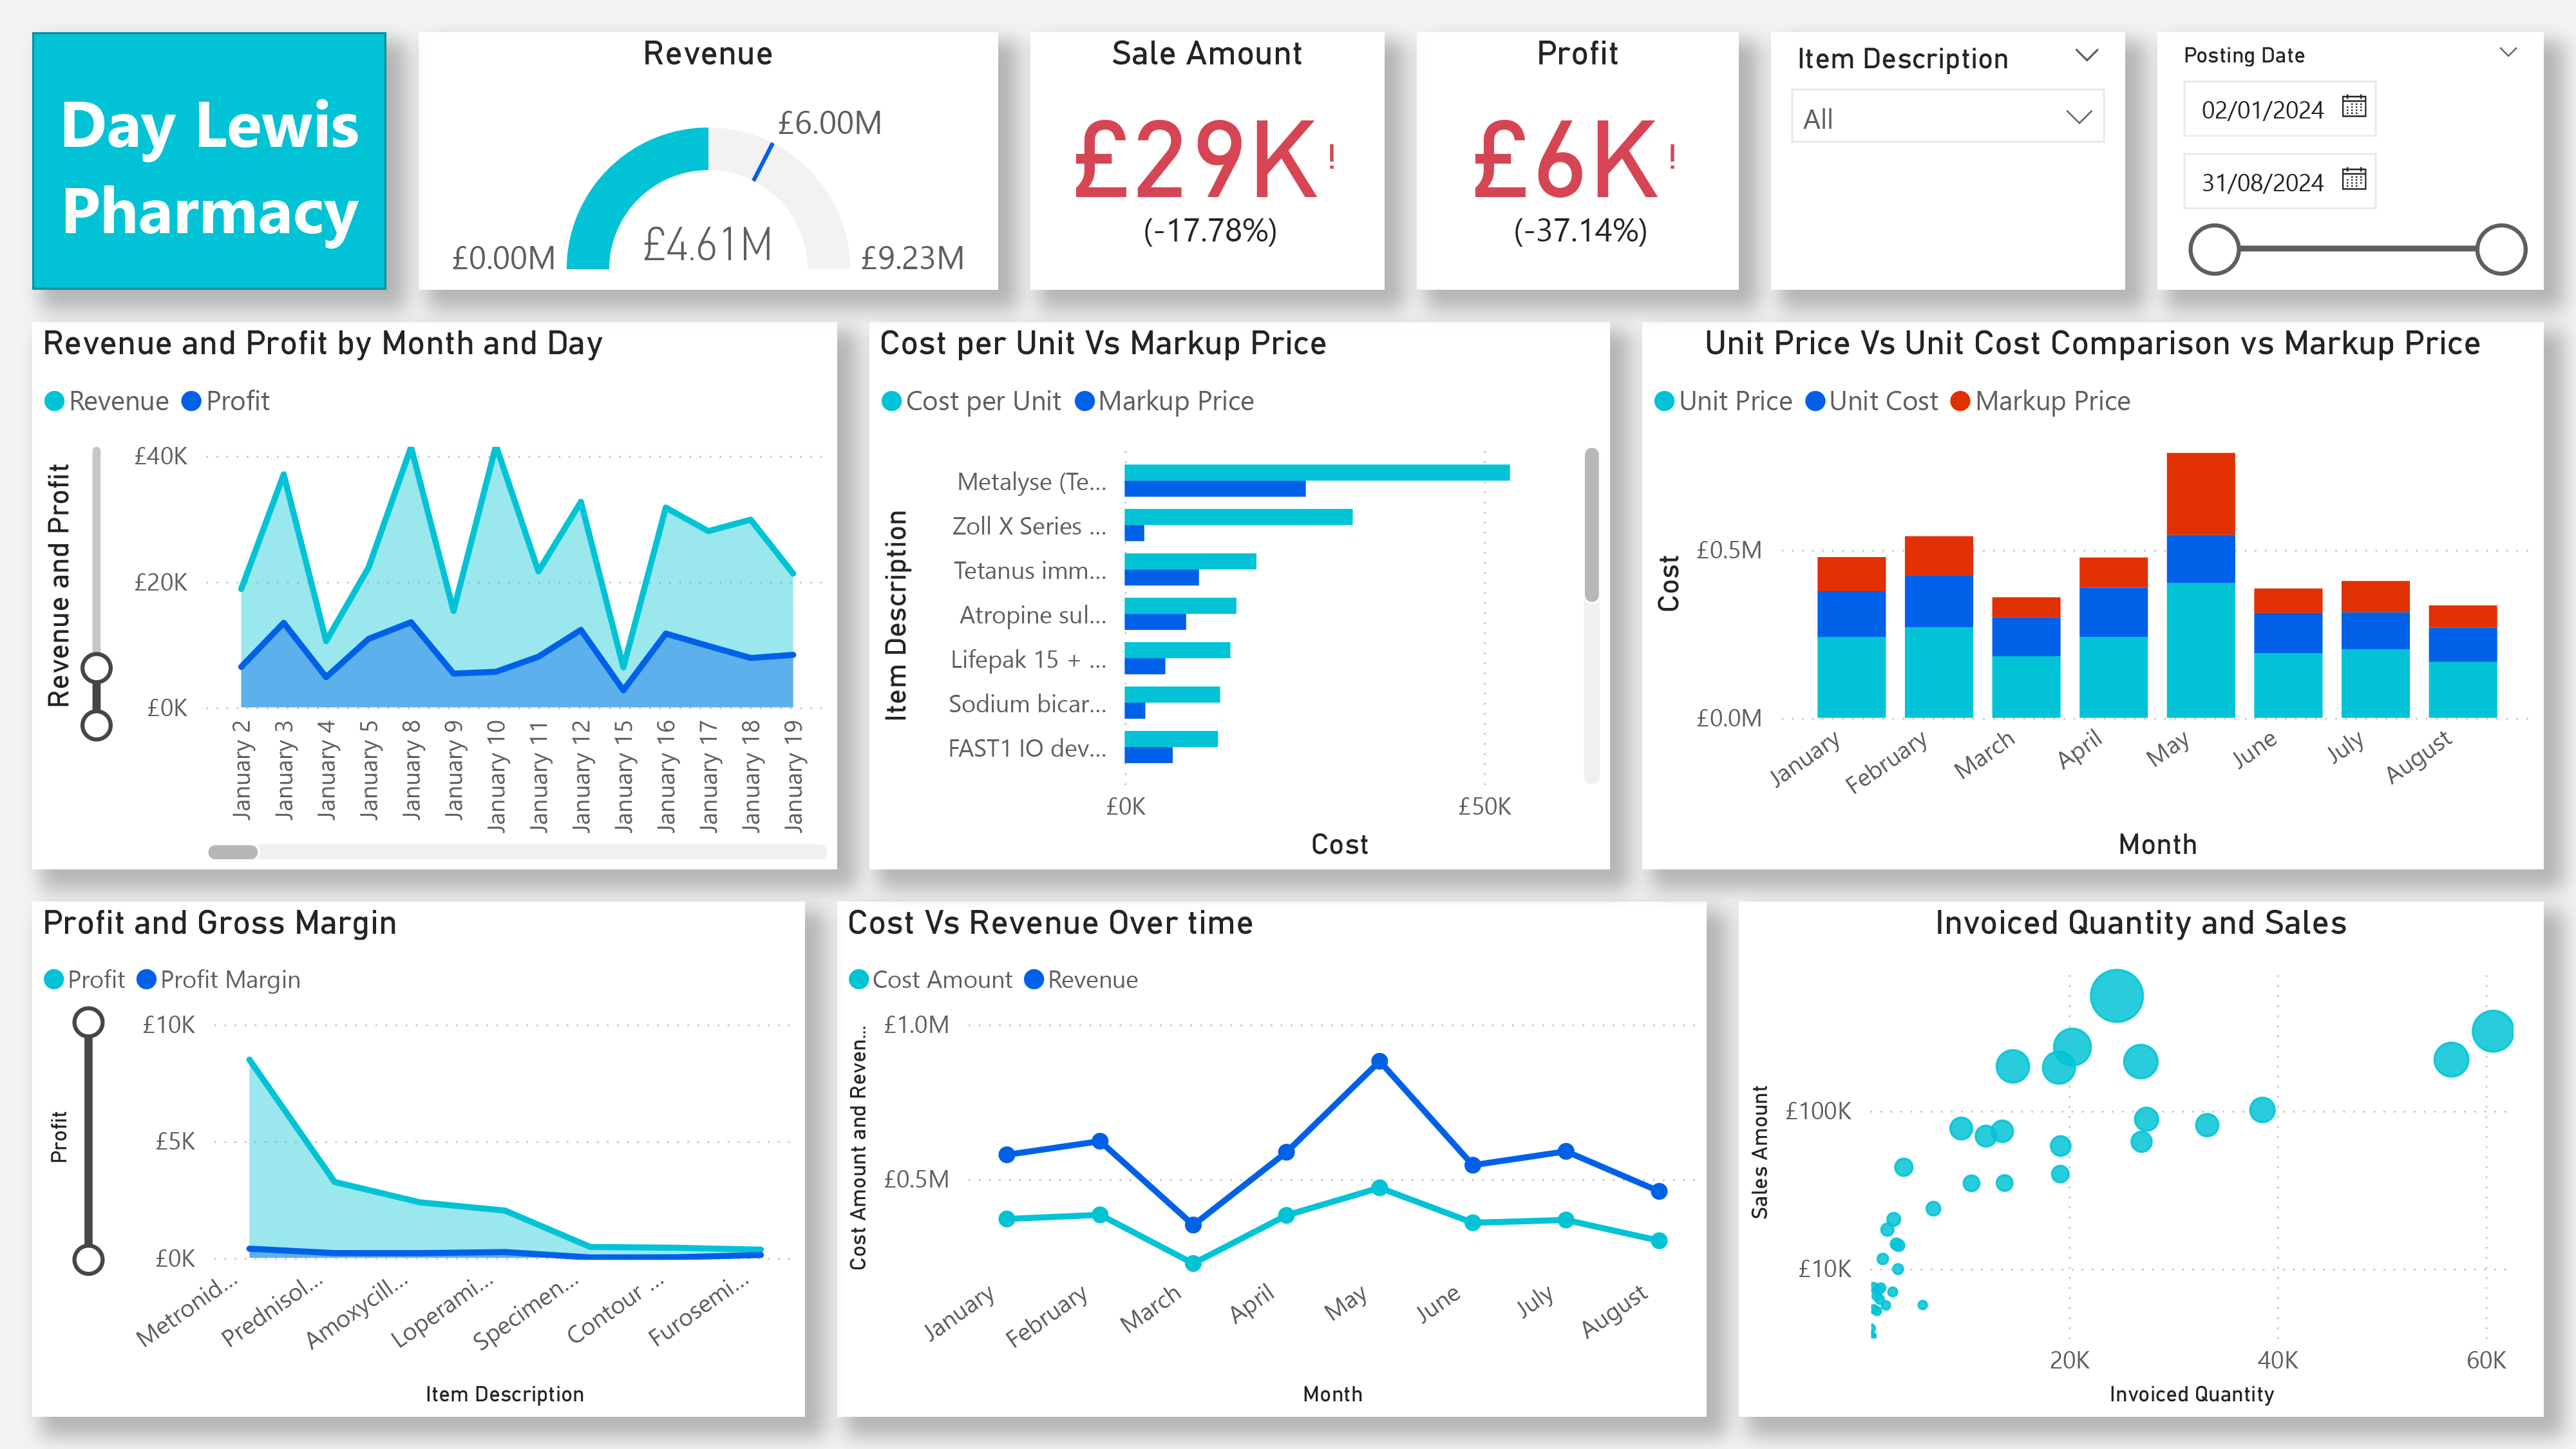

The dashboard page shown, as its layout file describes it:
{"tool":"powerbi","page":{"name":"Main Dashboard","canvas":[1280,720],"ordinal":0},"visuals":[{"type":"lineChart","title":"Revenue and Profit by Month and Day","fields":{"Category":["DATA DUMP.Posting Date.Variation.Date Hierarchy.Month","DATA DUMP.Posting Date.Variation.Date Hierarchy.Day"],"Y":["Sum(DATA DUMP.Revenue)","Sum(DATA DUMP.Profit)"]},"box":[16,160,400,272],"z":0},{"type":"lineChart","title":"Cost Vs Revenue Over time","fields":{"Category":["DATA DUMP.Posting Date.Variation.Date Hierarchy.Month","DATA DUMP.Posting Date.Variation.Date Hierarchy.Day"],"Y":["Sum(DATA DUMP.Cost Amount (Actual))","Sum(DATA DUMP.Revenue)"]},"box":[416,448,432,256],"z":1000},{"type":"areaChart","title":"Profit and Gross Margin","fields":{"Category":["DATA DUMP.Item Description"],"Y":["Sum(DATA DUMP.Profit)","Sum(DATA DUMP.Profit Margin)"]},"box":[16,448,384,256],"z":2000},{"type":"clusteredBarChart","title":"Cost per Unit Vs Markup Price","fields":{"Category":["DATA DUMP.Item Description"],"Y":["Sum(DATA DUMP.Cost per Unit)","Sum(DATA DUMP.Markup Price)"]},"box":[432,160,368,272],"z":3000},{"type":"columnChart","title":"Unit Price Vs Unit Cost Comparison vs Markup Price","fields":{"Category":["DATA DUMP.Posting Date.Variation.Date Hierarchy.Month","DATA DUMP.Posting Date.Variation.Date Hierarchy.Day"],"Y":["Sum(DATA DUMP.Unit Price)","Sum(DATA DUMP.Unit Cost)","Sum(DATA DUMP.Markup Price)"]},"box":[816,160,448,272],"z":4000},{"type":"kpi","title":"Profit","fields":{"TrendLine":["DATA DUMP.Posting Date"],"Indicator":["Sum(DATA DUMP.Profit)"],"Goal":["DATA DUMP.Profit Target"]},"box":[704,16,160,128],"z":5000},{"type":"gauge","title":"Revenue","fields":{"Y":["Sum(DATA DUMP.Revenue)"]},"box":[208,16,288,128],"z":6000},{"type":"slicer","fields":{"Values":["DATA DUMP.Item Description"]},"box":[880,16,176,128],"z":7000},{"type":"kpi","title":"Sale Amount","fields":{"TrendLine":["DATA DUMP.Posting Date"],"Indicator":["Sum(DATA DUMP.Sales Amount (Actual))"],"Goal":["DATA DUMP.High-Selling Products kPI"]},"box":[512,16,176,128],"z":8000},{"type":"shape","box":[16,16,176,128],"z":9000},{"type":"textbox","box":[16,16,176,128],"z":10000},{"type":"slicer","fields":{"Values":["DATA DUMP.Posting Date"]},"box":[1072,16,192,128],"z":11000},{"type":"scatterChart","title":"Invoiced Quantity and Sales","fields":{"Y":["Sum(DATA DUMP.Sales Amount (Actual))"],"Category":["DATA DUMP.Invoiced Quantity"],"X":["Sum(DATA DUMP.Invoiced Quantity)"],"Size":["Sum(DATA DUMP.Sales Amount (Actual))"]},"box":[864,448,400,256],"z":12000}]}

Visuals, with their boxes in screenshot pixels (x1, y1, x2, y2), scaled from the page's 1280x720 canvas onto the 2576x1449 screenshot:
"Revenue and Profit by Month and Day" lineChart: (x1=32, y1=322, x2=837, y2=869)
"Cost Vs Revenue Over time" lineChart: (x1=837, y1=902, x2=1707, y2=1417)
"Profit and Gross Margin" areaChart: (x1=32, y1=902, x2=805, y2=1417)
"Cost per Unit Vs Markup Price" clusteredBarChart: (x1=869, y1=322, x2=1610, y2=869)
"Unit Price Vs Unit Cost Comparison vs Markup Price" columnChart: (x1=1642, y1=322, x2=2544, y2=869)
"Profit" kpi: (x1=1417, y1=32, x2=1739, y2=290)
"Revenue" gauge: (x1=419, y1=32, x2=998, y2=290)
slicer - DATA DUMP.Item Description: (x1=1771, y1=32, x2=2125, y2=290)
"Sale Amount" kpi: (x1=1030, y1=32, x2=1385, y2=290)
shape: (x1=32, y1=32, x2=386, y2=290)
textbox: (x1=32, y1=32, x2=386, y2=290)
slicer - DATA DUMP.Posting Date: (x1=2157, y1=32, x2=2544, y2=290)
"Invoiced Quantity and Sales" scatterChart: (x1=1739, y1=902, x2=2544, y2=1417)
